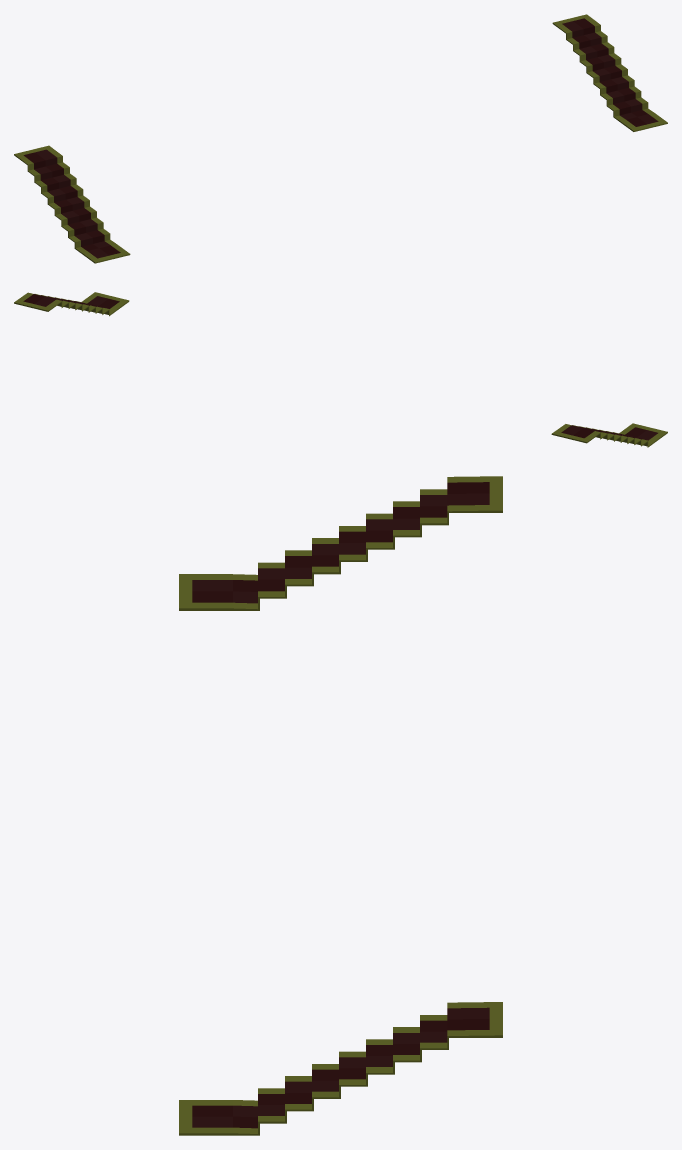
File: Theat Carp Secon 2.FBX
3 views of the same model, one above another, from view 1: azimuth 30°, elevation 25°; view 2: azimuth 150°, elevation 25°; view 3: azimuth 270°, elevation 25° (orthographic). The views are drawn at different scales.
Parts seen in each view (by area): view 1: Carpet Secondary Stairs; view 2: Carpet Secondary Stairs; view 3: Carpet Secondary Stairs.
Boxes of the visible parts, x1,y1,x2,y2 form: Carpet Secondary Stairs: (14, 14, 667, 263); Carpet Secondary Stairs: (14, 292, 667, 447); Carpet Secondary Stairs: (179, 476, 502, 1135).
Size of the model in its own units: 24.48 by 2.05 by 6.
